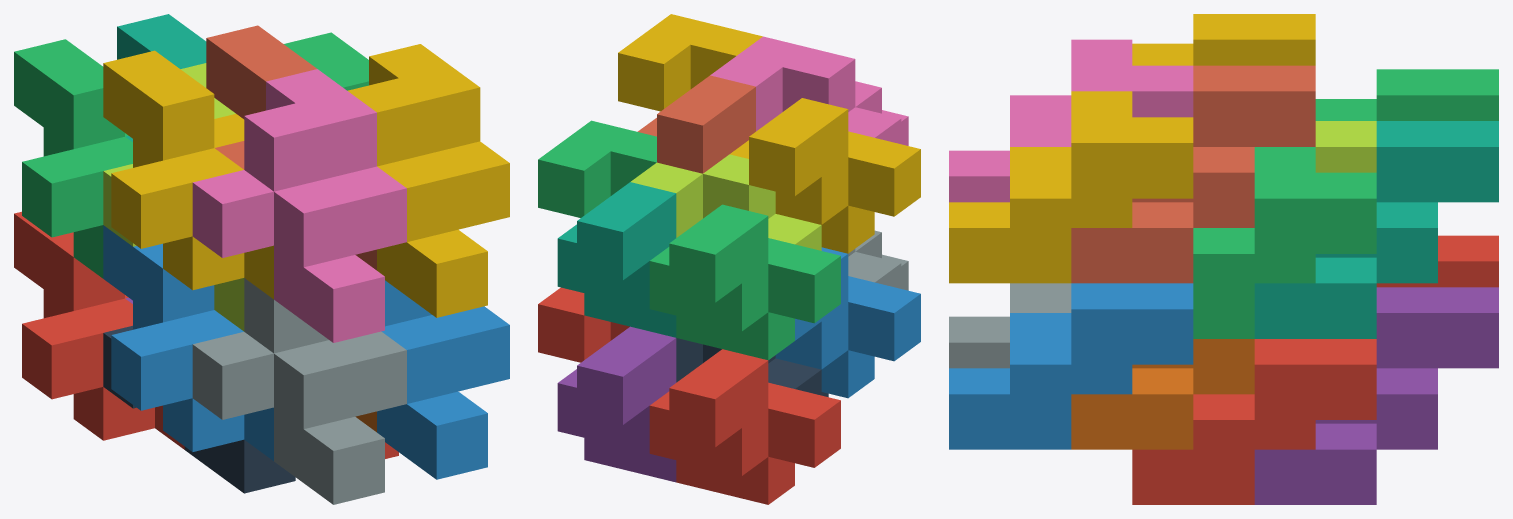
File: tiling.obj
The picture shows the model from 3 angles, left to right: view 1: azimuth 30°, elevation 25°; view 2: azimuth 150°, elevation 25°; view 3: azimuth 270°, elevation 25°; orthographic projection. The views are drawn at different scales.
Parts seen in each view (by area): view 1: copy_2_domain_4, copy_2_domain_2, copy_2_domain_8, copy_1_domain_4, copy_1_domain_2, copy_1_domain_3, copy_2_domain_6, copy_1_domain_1, copy_1_domain_8, copy_2_domain_1, copy_1_domain_7, copy_2_domain_7 (+1 smaller); view 2: copy_1_domain_1, copy_1_domain_3, copy_1_domain_4, copy_1_domain_7, copy_1_domain_5, copy_1_domain_2, copy_2_domain_4, copy_2_domain_8, copy_2_domain_7, copy_1_domain_8, copy_2_domain_3, copy_2_domain_5 (+2 smaller); view 3: copy_2_domain_8, copy_2_domain_6, copy_1_domain_8, copy_1_domain_7, copy_1_domain_5, copy_2_domain_5, copy_2_domain_7, copy_2_domain_4, copy_1_domain_6, copy_1_domain_4, copy_1_domain_3, copy_2_domain_2 (+2 smaller).
Part boxes in pixels (x1=…): copy_2_domain_4: x1=192, y1=69, x2=406, y2=342; copy_2_domain_2: x1=192, y1=278, x2=406, y2=504; copy_2_domain_8: x1=347, y1=44, x2=509, y2=317; copy_1_domain_4: x1=103, y1=50, x2=273, y2=299; copy_1_domain_2: x1=103, y1=225, x2=273, y2=460; copy_1_domain_3: x1=14, y1=39, x2=132, y2=278; copy_2_domain_6: x1=377, y1=280, x2=509, y2=479; copy_1_domain_1: x1=14, y1=211, x2=184, y2=449; copy_1_domain_8: x1=206, y1=25, x2=376, y2=270; copy_2_domain_1: x1=103, y1=325, x2=295, y2=493; copy_1_domain_7: x1=117, y1=14, x2=206, y2=141; copy_2_domain_7: x1=284, y1=32, x2=368, y2=90; copy_1_domain_1: x1=649, y1=349, x2=840, y2=504; copy_1_domain_3: x1=649, y1=204, x2=840, y2=360; copy_1_domain_4: x1=730, y1=98, x2=920, y2=253; copy_1_domain_7: x1=557, y1=182, x2=676, y2=337; copy_1_domain_5: x1=557, y1=326, x2=676, y2=482; copy_1_domain_2: x1=775, y1=247, x2=920, y2=398; copy_2_domain_4: x1=710, y1=36, x2=908, y2=145; copy_2_domain_8: x1=618, y1=14, x2=762, y2=111; copy_2_domain_7: x1=538, y1=120, x2=656, y2=217; copy_1_domain_8: x1=637, y1=75, x2=755, y2=173; copy_2_domain_3: x1=631, y1=154, x2=821, y2=250; copy_2_domain_5: x1=538, y1=287, x2=629, y2=362; copy_2_domain_8: x1=949, y1=91, x2=1193, y2=283; copy_2_domain_6: x1=949, y1=283, x2=1193, y2=449; copy_1_domain_8: x1=1071, y1=65, x2=1315, y2=283; copy_1_domain_7: x1=1254, y1=121, x2=1498, y2=338; copy_1_domain_5: x1=1254, y1=287, x2=1498, y2=504; copy_2_domain_5: x1=1132, y1=339, x2=1376, y2=504; copy_2_domain_7: x1=1193, y1=147, x2=1376, y2=338; copy_2_domain_4: x1=949, y1=39, x2=1193, y2=202; copy_1_domain_6: x1=1071, y1=339, x2=1254, y2=449; copy_1_domain_4: x1=1132, y1=14, x2=1315, y2=65; copy_1_domain_3: x1=1315, y1=69, x2=1498, y2=120; copy_2_domain_2: x1=949, y1=283, x2=1071, y2=368.
Size of the model in its own units: 6 by 7 by 9.
